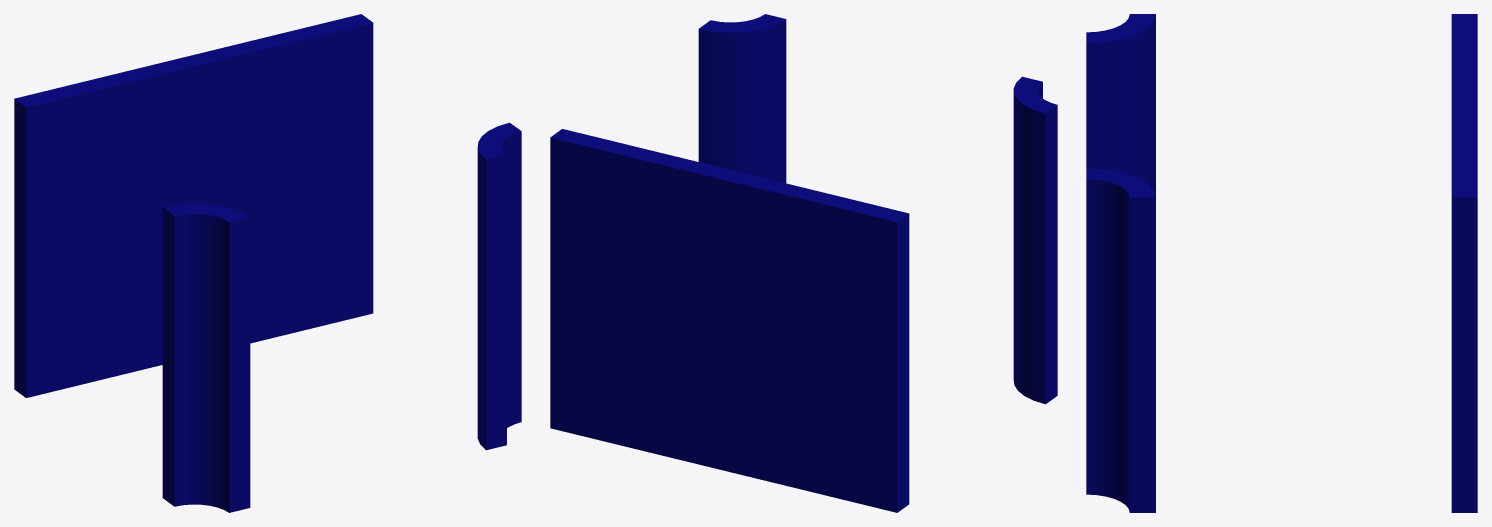
Rendered from Wall02.FBX.
3 views of the same model, side by side, from view 1: azimuth 30°, elevation 25°; view 2: azimuth 150°, elevation 25°; view 3: azimuth 270°, elevation 25° (orthographic). The views are drawn at different scales.
Parts seen in each view (by area): view 1: Wall02; view 2: Wall02; view 3: Wall02.
Part boxes in pixels (x1,y1,x2,y2): Wall02: (14, 14, 521, 512); Wall02: (550, 14, 1057, 512); Wall02: (1086, 14, 1477, 512).
Size of the model in its own units: 100 by 80 by 90.
1 material, 1 textured.
